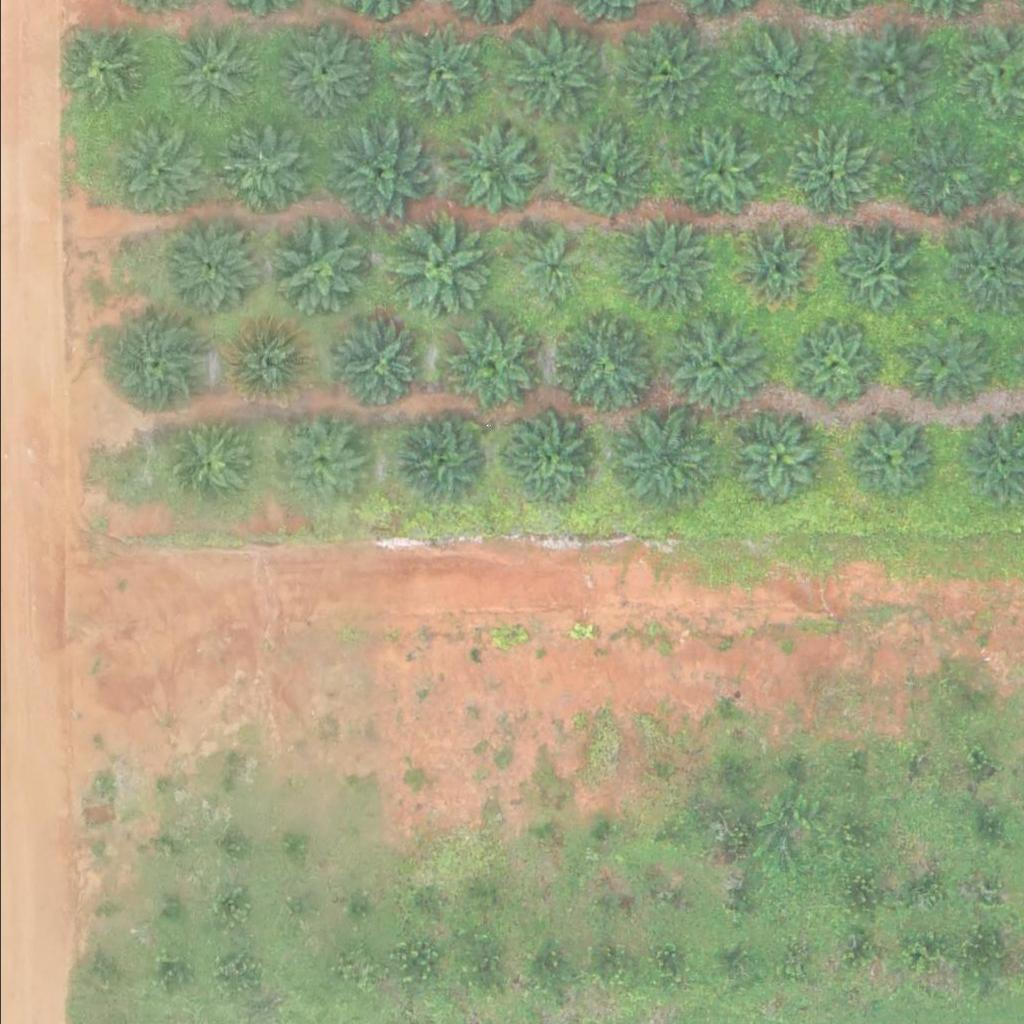Kelapa_Sawit: (385, 223, 486, 323), (665, 123, 766, 223), (549, 124, 650, 224), (325, 122, 426, 222), (729, 29, 830, 129), (612, 26, 713, 126), (503, 25, 604, 125), (386, 24, 487, 124), (270, 22, 371, 122), (112, 119, 213, 219), (264, 221, 365, 321), (160, 219, 261, 319), (106, 318, 207, 418), (891, 130, 991, 230), (616, 408, 716, 508), (664, 313, 764, 413), (550, 315, 650, 415), (612, 218, 712, 318), (842, 32, 930, 120), (843, 417, 931, 505), (733, 418, 821, 506), (446, 325, 534, 413), (336, 319, 424, 407), (786, 132, 874, 220), (169, 30, 257, 118), (59, 27, 147, 115), (225, 319, 313, 407), (162, 424, 250, 512), (901, 323, 989, 410), (829, 228, 917, 315), (496, 418, 584, 505), (399, 419, 487, 506), (273, 418, 361, 505), (790, 320, 878, 407), (732, 224, 820, 311), (450, 127, 538, 214), (222, 134, 310, 221), (508, 230, 584, 305)
